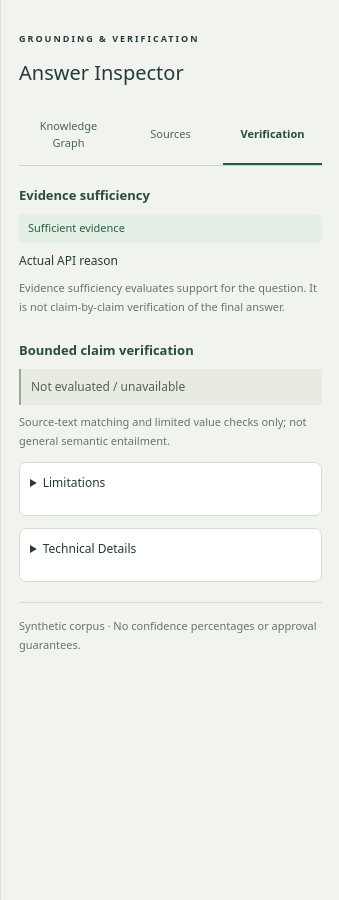
Test: renders only typed directed graph metadata and its evidence
Click the tab "Knowledge Graph" at point(68, 136), box [19,106,118,165]
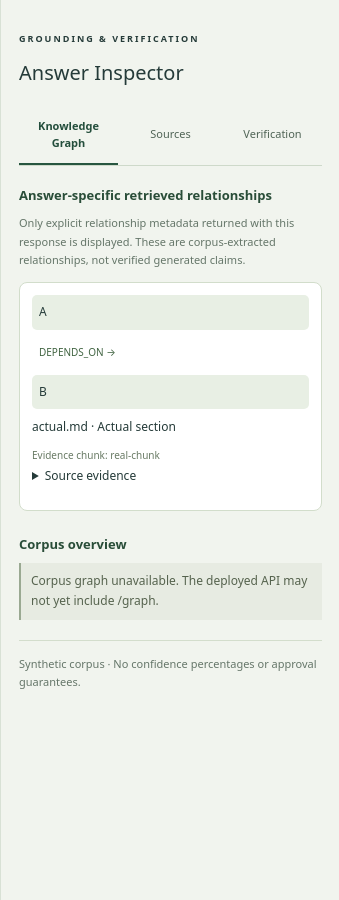
Expected: the text "A" is shown, [32,295,309,330]
Now the text "DEPENDS_ON →" is shown, box [39,344,116,358]
